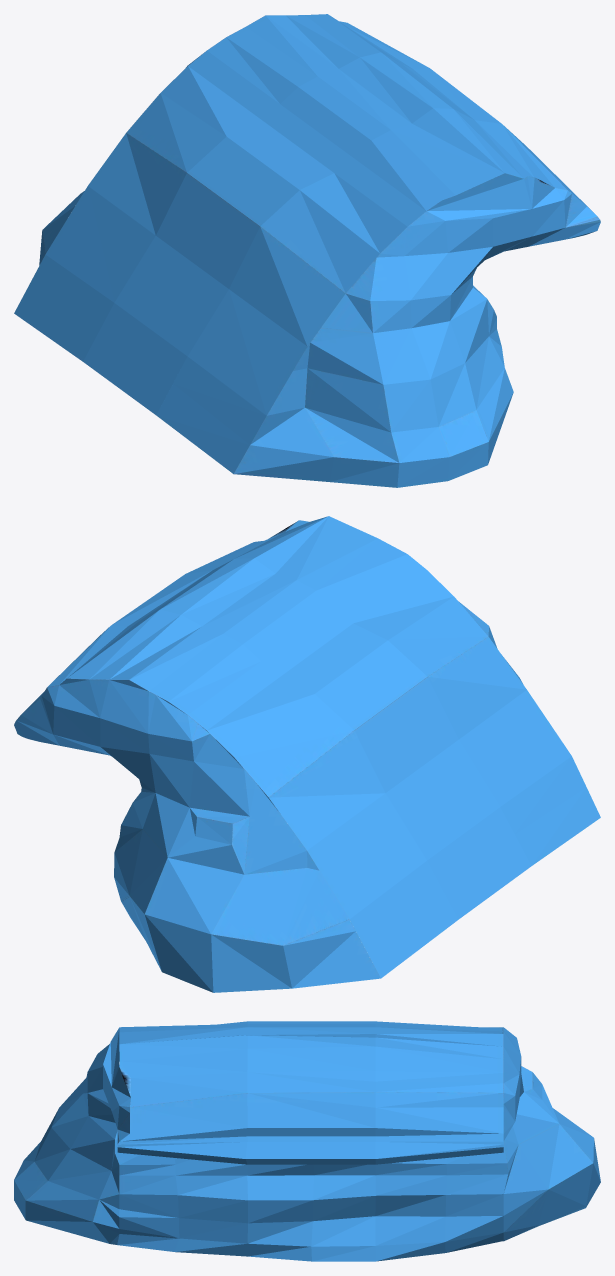
Rendered from Wave by Poly by Google - 6mpwUZqCgzy.glb.
The picture shows the model from 3 angles, top to bottom: view 1: azimuth 30°, elevation 25°; view 2: azimuth 150°, elevation 25°; view 3: azimuth 270°, elevation 25°; orthographic projection. The views are drawn at different scales.
Parts seen in each view (by area): view 1: Node; view 2: Node; view 3: Node.
Part boxes in pixels (x1,y1,x2,y2): Node: (14,14,600,487); Node: (14,516,600,992); Node: (14,1021,600,1261).
Size of the model in its own units: 8506 by 5318 by 12839.
Materials: 1 (1 with a texture image).
